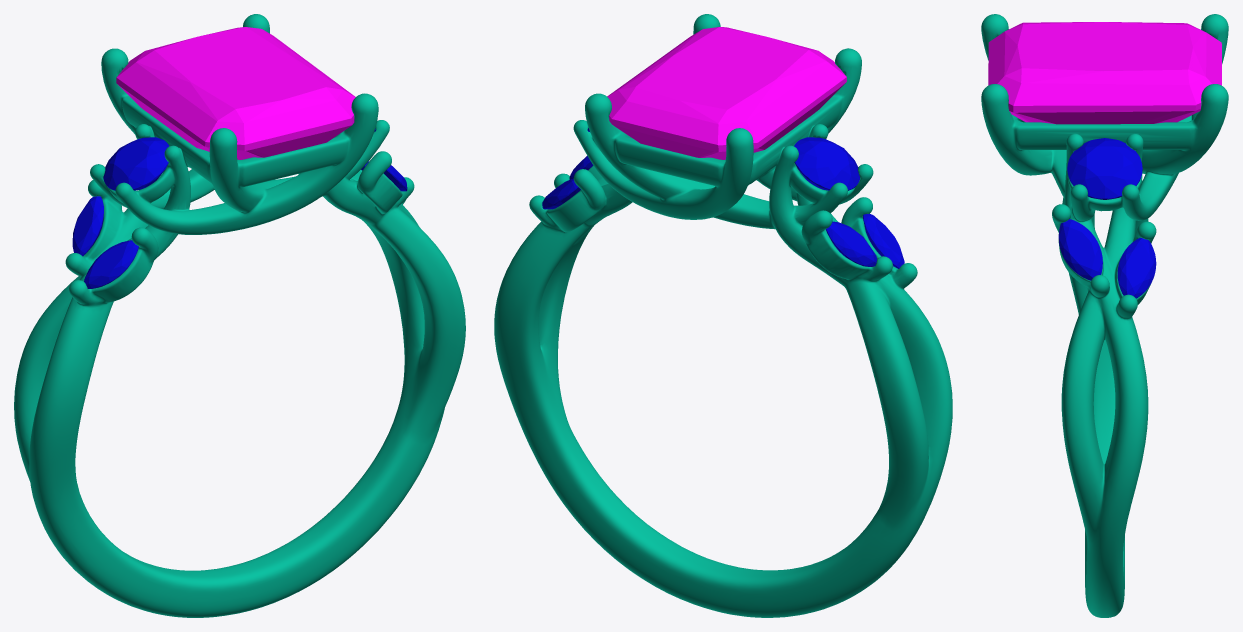
Rendered from BE1D431_RA_200ct_RENDER.glb.
3 renders of one model, left to right at view 1: azimuth 30°, elevation 25°; view 2: azimuth 150°, elevation 25°; view 3: azimuth 270°, elevation 25°, orthographic.
Parts seen in each view (by area): view 1: Metal 01, CS_Diamond_Radiant, Diamond_Round_side, Diamond_Marquise_side.001, Diamond_Marquise_side; view 2: Metal 01, CS_Diamond_Radiant, Diamond_Round_side, Diamond_Marquise_side, Diamond_Marquise_side.001, Diamond_Marquise_side.003; view 3: Metal 01, CS_Diamond_Radiant, Diamond_Round_side.001, Diamond_Marquise_side.002, Diamond_Marquise_side.003.
Boxes of the visible parts, bbox=[...] form: Metal 01: bbox=[14, 14, 465, 617]; CS_Diamond_Radiant: bbox=[116, 27, 355, 159]; Diamond_Round_side: bbox=[103, 137, 168, 190]; Diamond_Marquise_side.001: bbox=[84, 240, 138, 288]; Diamond_Marquise_side: bbox=[72, 196, 103, 256]; Metal 01: bbox=[494, 14, 952, 617]; CS_Diamond_Radiant: bbox=[607, 27, 846, 159]; Diamond_Round_side: bbox=[794, 137, 859, 190]; Diamond_Marquise_side: bbox=[825, 221, 877, 266]; Diamond_Marquise_side.001: bbox=[863, 213, 904, 268]; Diamond_Marquise_side.003: bbox=[542, 179, 580, 209]; Metal 01: bbox=[981, 14, 1228, 617]; CS_Diamond_Radiant: bbox=[988, 22, 1221, 124]; Diamond_Round_side.001: bbox=[1067, 138, 1142, 199]; Diamond_Marquise_side.002: bbox=[1058, 219, 1102, 280]; Diamond_Marquise_side.003: bbox=[1117, 237, 1156, 298].
Size of the model in its own units: 20.22 by 24.14 by 9.87.
